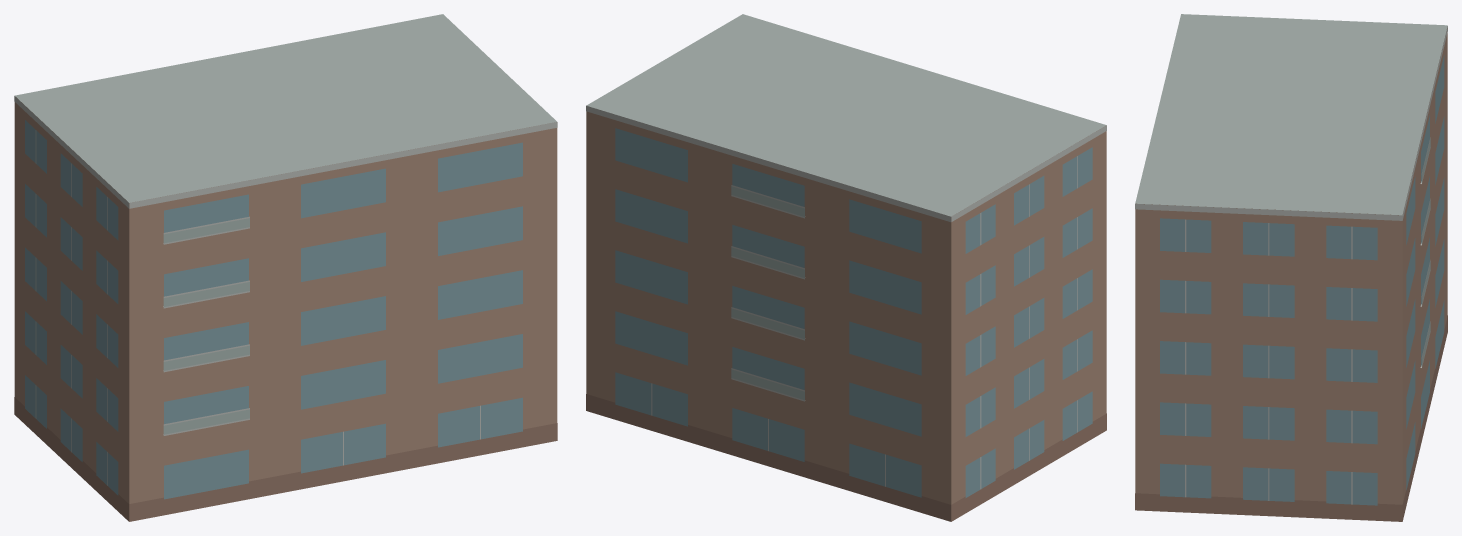
Rendered from survey-upis-32567057.glb.
3 renders of one model, left to right at view 1: azimuth 30°, elevation 25°; view 2: azimuth 150°, elevation 25°; view 3: azimuth 270°, elevation 25°, orthographic. The views are drawn at different scales.
Visible parts, largest first — view 1: survey-upis-32567057.tmp; view 2: survey-upis-32567057.tmp; view 3: survey-upis-32567057.tmp.
Boxes of the visible parts, x1=… form: survey-upis-32567057.tmp: x1=14, y1=14, x2=557, y2=521; survey-upis-32567057.tmp: x1=586, y1=14, x2=1106, y2=521; survey-upis-32567057.tmp: x1=1135, y1=14, x2=1447, y2=521.
Bounding box in the file's own units: 18.59 × 13.2 × 12.21.
